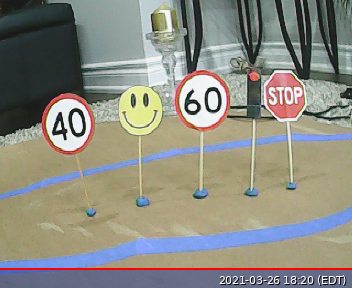Person: (118, 85, 163, 136)
Red Traffic Light: (245, 67, 263, 119)
Speed Limit 40: (41, 93, 97, 154)
Speed Limit 60: (175, 70, 230, 131)
Stop Sign: (263, 69, 305, 122)
